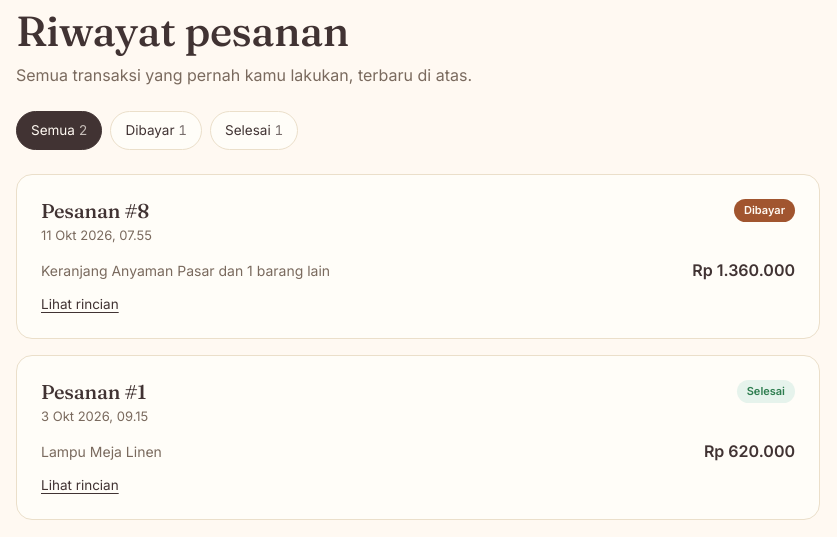
it: OrdersView › filter status menyaring daftar
The width and height of the screenshot is (837, 537).
Click the button with class "orders__tab" showing "Selesai 1".
click(254, 130)  # box [210,111,298,150]
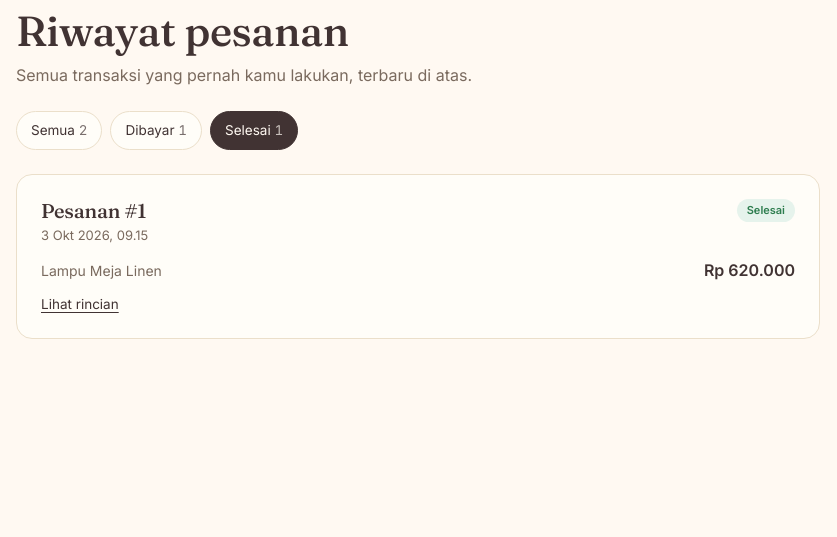
Expected: the text "Pesanan #1" is shown, [41,198,148,222]
Expected: the number of list items with class "order" is 1, [16,174,820,339]
